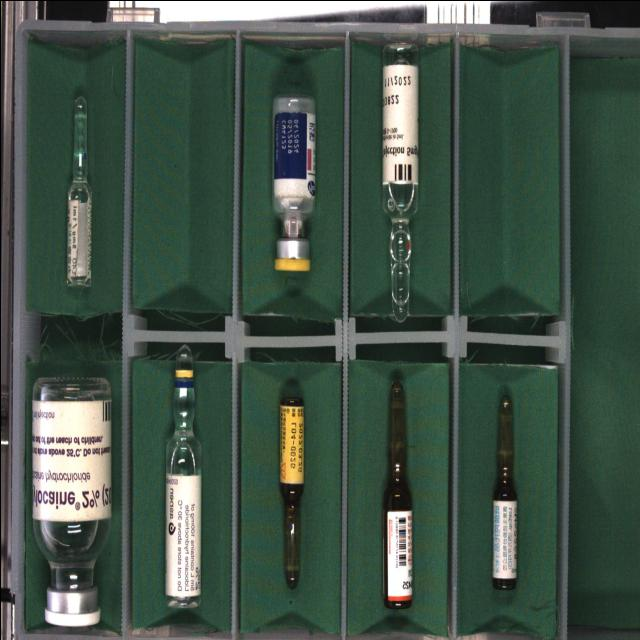Vials: (31, 377, 110, 626), (271, 95, 314, 270)
